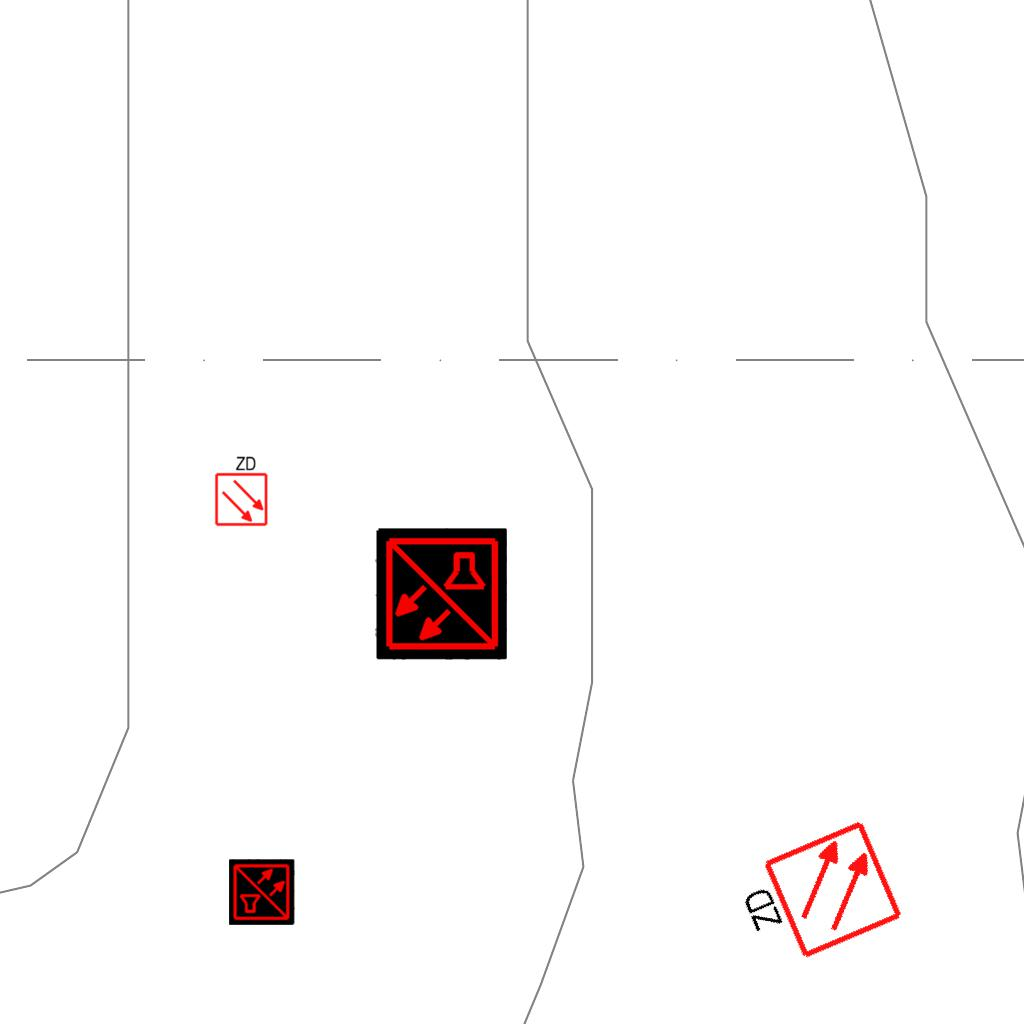OKW_Multisensormelder_(Kombination_optischer_Rauch-Kahlenmonoxid_Waerme-Melder): (375, 528, 507, 660), (229, 859, 295, 925)
ZD_Melder_in_Zwischendecke_mit_Revisionsoeffnung_mind_40_x_40_cm: (725, 816, 907, 981), (212, 453, 269, 527)
